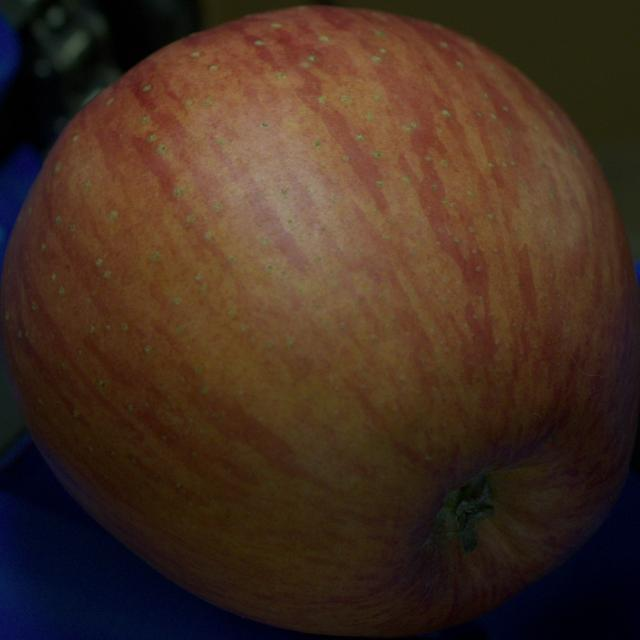apple: (0, 7, 639, 636)
bruise: (565, 335, 638, 489)
